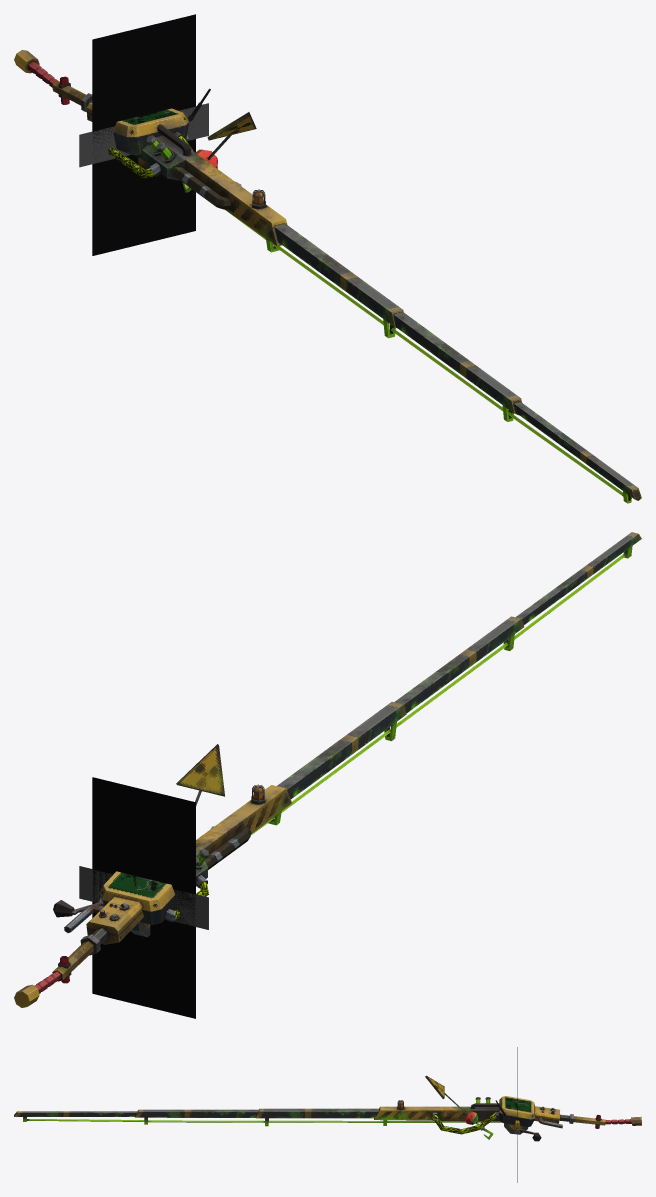
The model's file is item_radioactive_fishing_rod.glb.
The picture shows the model from 3 angles, top to bottom: view 1: azimuth 30°, elevation 25°; view 2: azimuth 150°, elevation 25°; view 3: azimuth 270°, elevation 25°; orthographic projection. The views are drawn at different scales.
Visible parts, largest first — view 1: Cube (×3), FishingRod_submesh_0, Bobber; view 2: Cube (×3), FishingRod_submesh_0, Bobber; view 3: FishingRod_submesh_0, FishingRod_submesh_1, Bobber.
Part boxes in pixels (x1=…): Cube (×3): x1=79, y1=14, x2=208, y2=255; FishingRod_submesh_0: x1=14, y1=50, x2=641, y2=503; Bobber: x1=195, y1=112, x2=256, y2=168; Cube (×3): x1=79, y1=777, x2=208, y2=1018; FishingRod_submesh_0: x1=14, y1=532, x2=641, y2=1007; Bobber: x1=176, y1=744, x2=224, y2=805; FishingRod_submesh_0: x1=14, y1=1096, x2=641, y2=1134; FishingRod_submesh_1: x1=432, y1=1113, x2=496, y2=1134; Bobber: x1=425, y1=1075, x2=478, y2=1124.
Size of the model in its own units: 0.2587 by 0.4 by 2.07.
4 materials, 2 textured.
